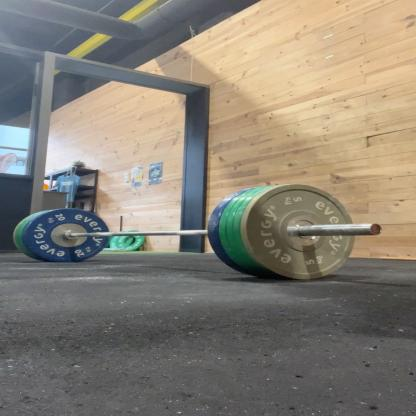barbell: (244, 184, 358, 282), (25, 210, 111, 265)
